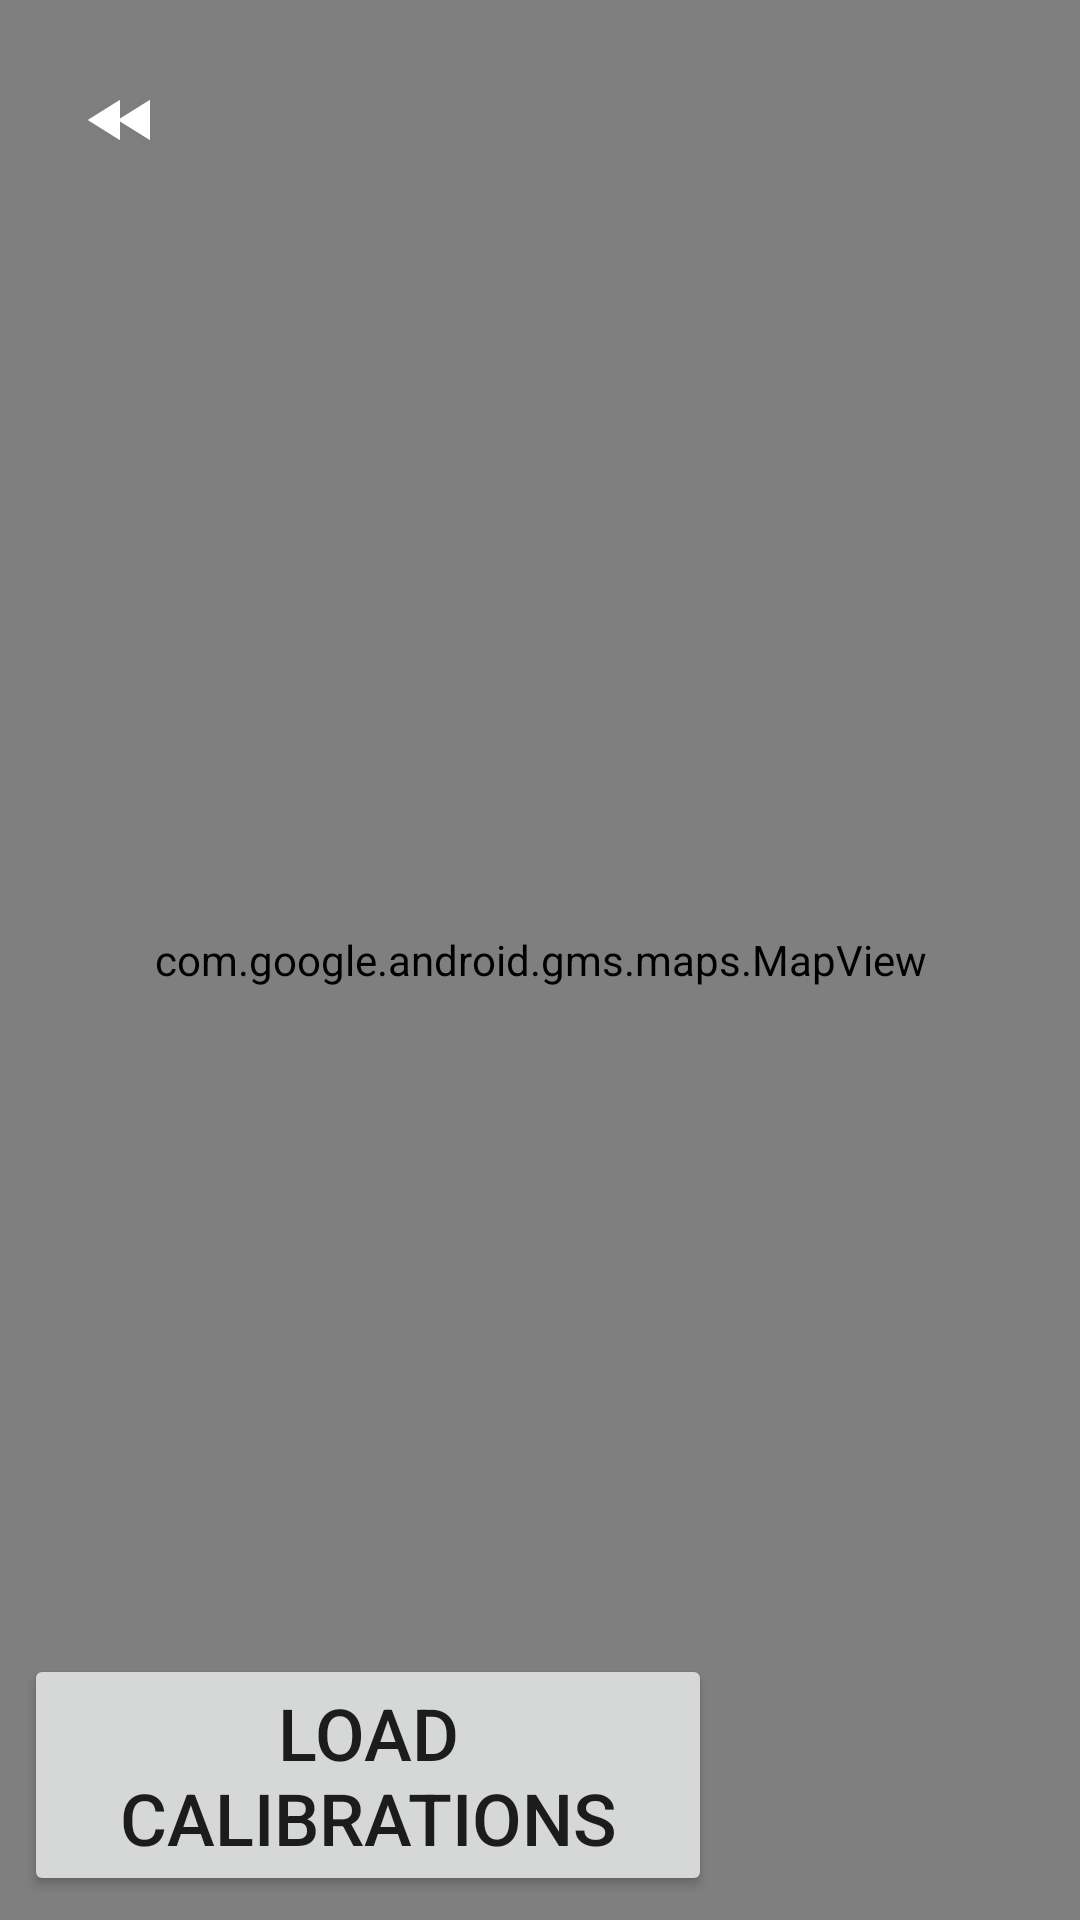

Locate icon controls on the screen. Image size 1080×1920, boxes as bbox=(x1, y1, x2, y2).
Go Back: bbox=(88, 100, 150, 140)
